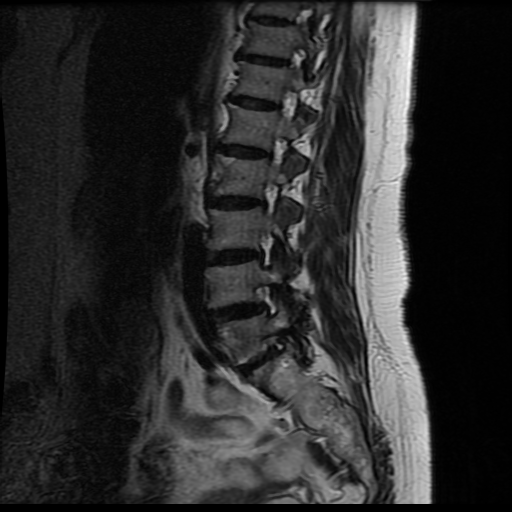RFS0: (247, 219, 289, 271), (246, 175, 292, 221)
RFS1: (244, 275, 291, 324)
